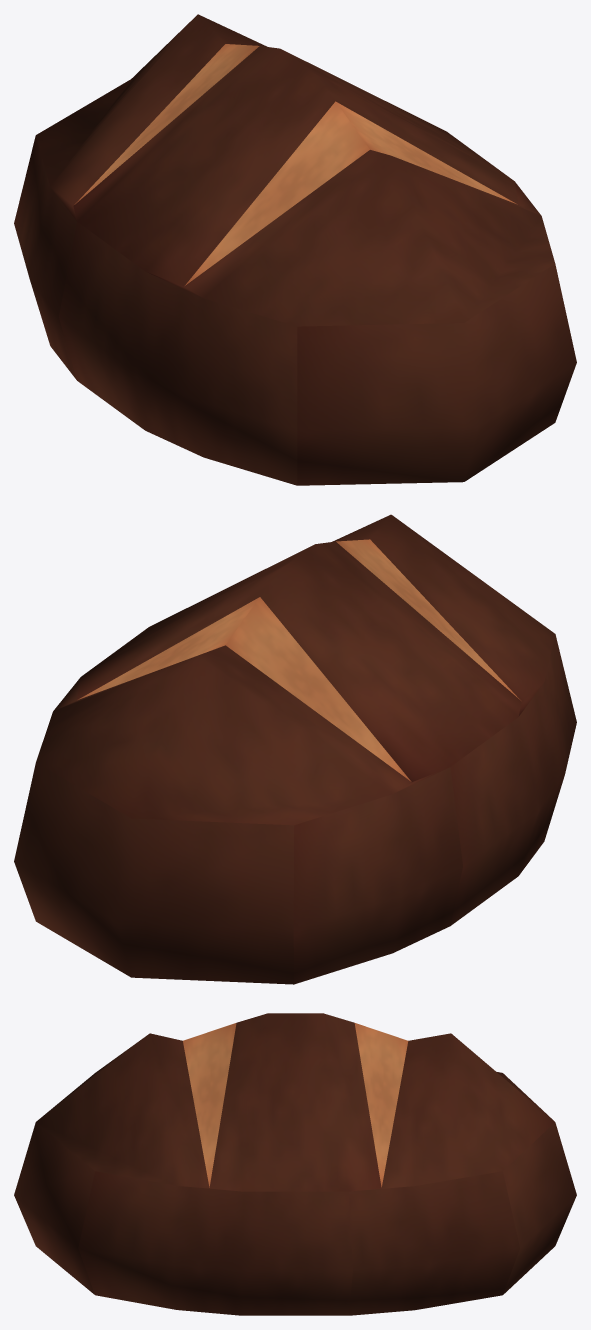
The model's file is Bun_A_2.FBX.
The picture shows the model from 3 angles, top to bottom: view 1: azimuth 30°, elevation 25°; view 2: azimuth 150°, elevation 25°; view 3: azimuth 270°, elevation 25°; orthographic projection. The views are drawn at different scales.
Parts seen in each view (by area): view 1: Bread_2; view 2: Bread_2; view 3: Bread_2.
Part boxes in pixels (x1,y1,x2,y2): Bread_2: (14, 14, 576, 485); Bread_2: (14, 514, 576, 984); Bread_2: (14, 1013, 576, 1315).
Bounding box in the file's own units: 36.15 × 25.77 × 56.44.
